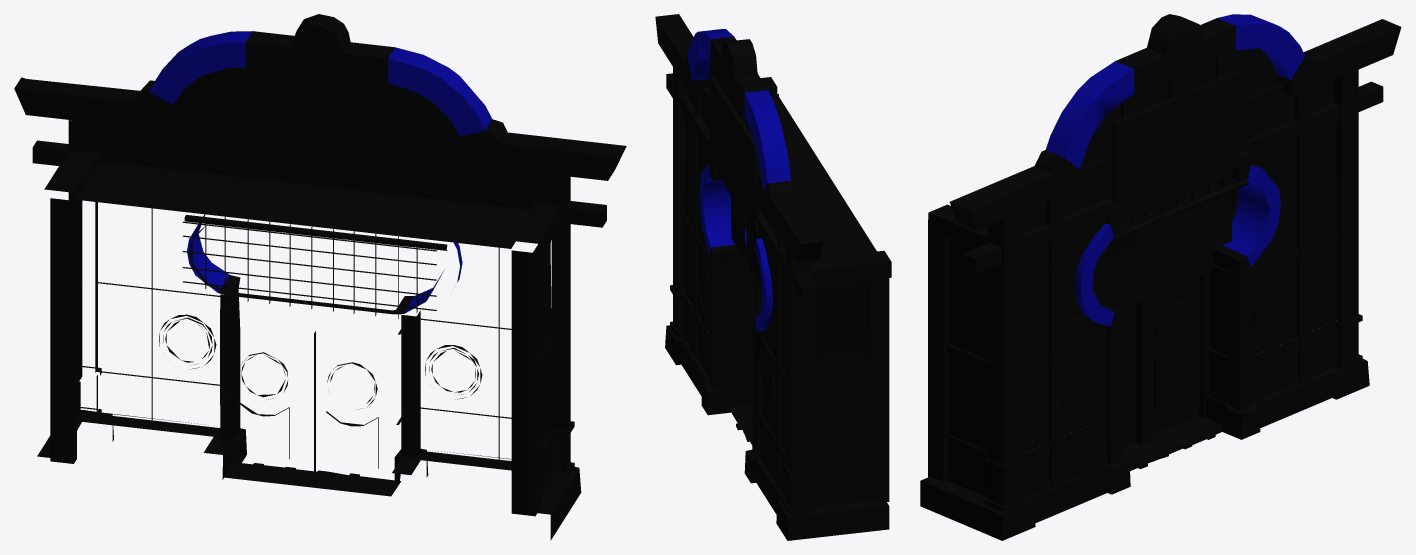
File: SM_ENV_LKNVLD_Shop_Front_Lod3.gltf
The picture shows the model from 3 angles, left to right: view 1: azimuth 30°, elevation 25°; view 2: azimuth 150°, elevation 25°; view 3: azimuth 270°, elevation 25°; orthographic projection. The views are drawn at different scales.
Parts seen in each view (by area): view 1: SM_ENV_LKNVLD_Shop_Front_Lod3; view 2: SM_ENV_LKNVLD_Shop_Front_Lod3; view 3: SM_ENV_LKNVLD_Shop_Front_Lod3.
Boxes of the visible parts, x1,y1,x2,y2 form: SM_ENV_LKNVLD_Shop_Front_Lod3: [14, 14, 626, 540]; SM_ENV_LKNVLD_Shop_Front_Lod3: [655, 14, 891, 540]; SM_ENV_LKNVLD_Shop_Front_Lod3: [920, 14, 1401, 540].
Bounding box in the file's own units: 8.9 × 8.97 × 8.9.
